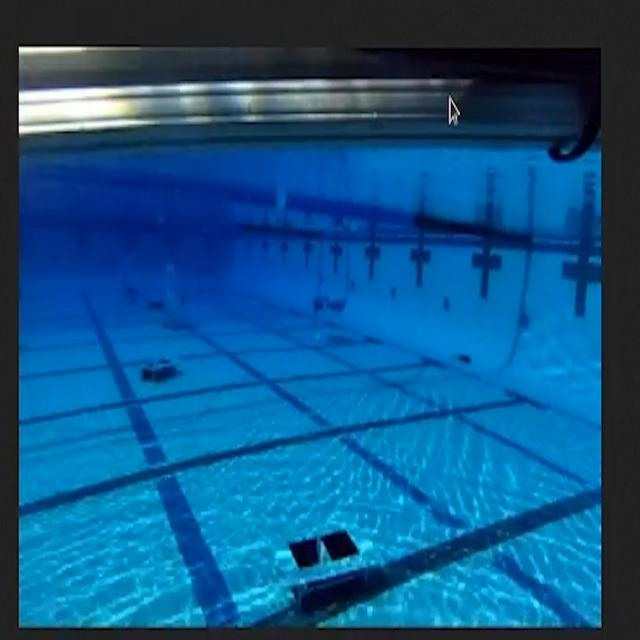Bin: (266, 514, 389, 593)
